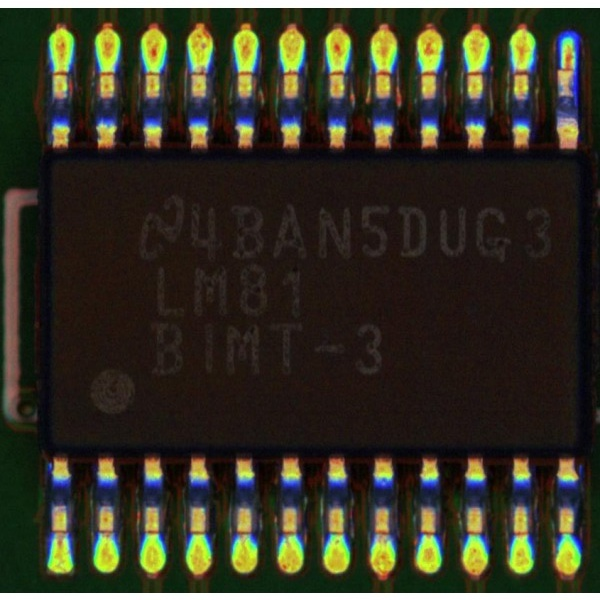Bad_podu: (332, 52, 344, 84), (194, 56, 206, 86), (379, 56, 392, 83), (55, 520, 66, 547), (562, 55, 573, 80)
